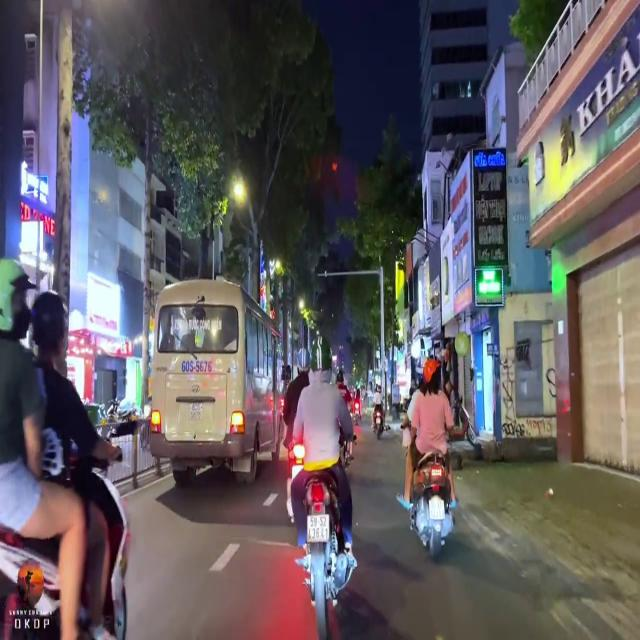bien_trang: (306, 516, 332, 547), (190, 406, 203, 422)
